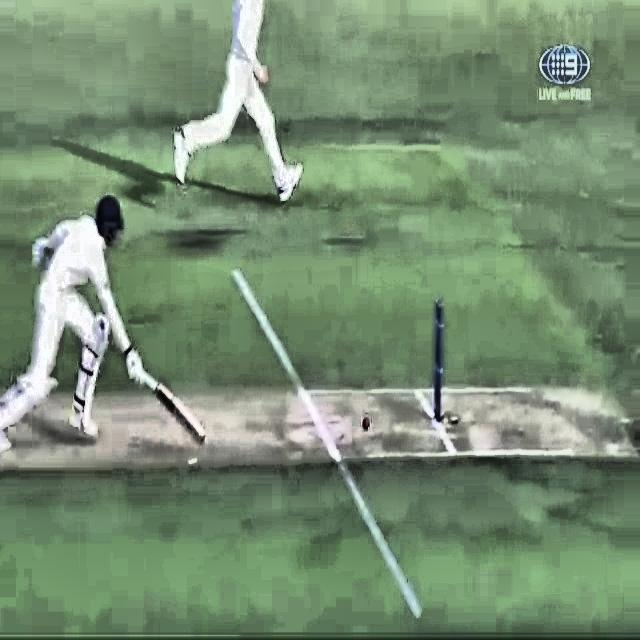Ball: (359, 410, 379, 436)
Bat: (116, 347, 210, 448)
Pitch_Line: (230, 265, 424, 620)
Undis_Wicket: (427, 295, 455, 422)
